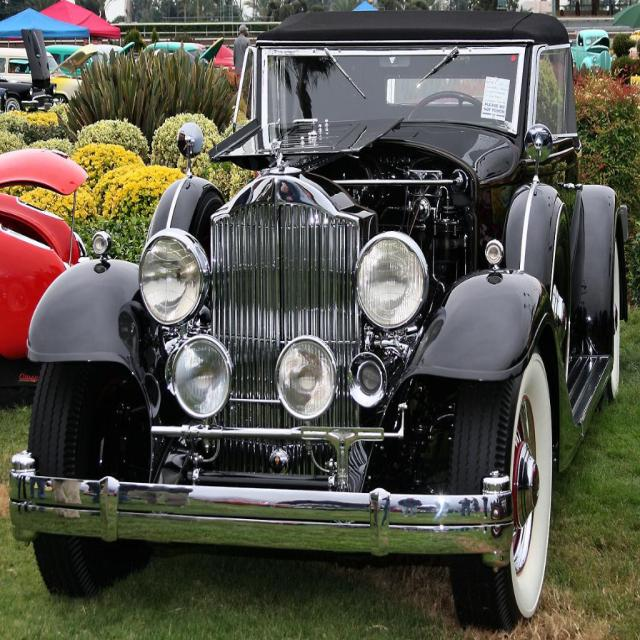car: (8, 8, 628, 633)
